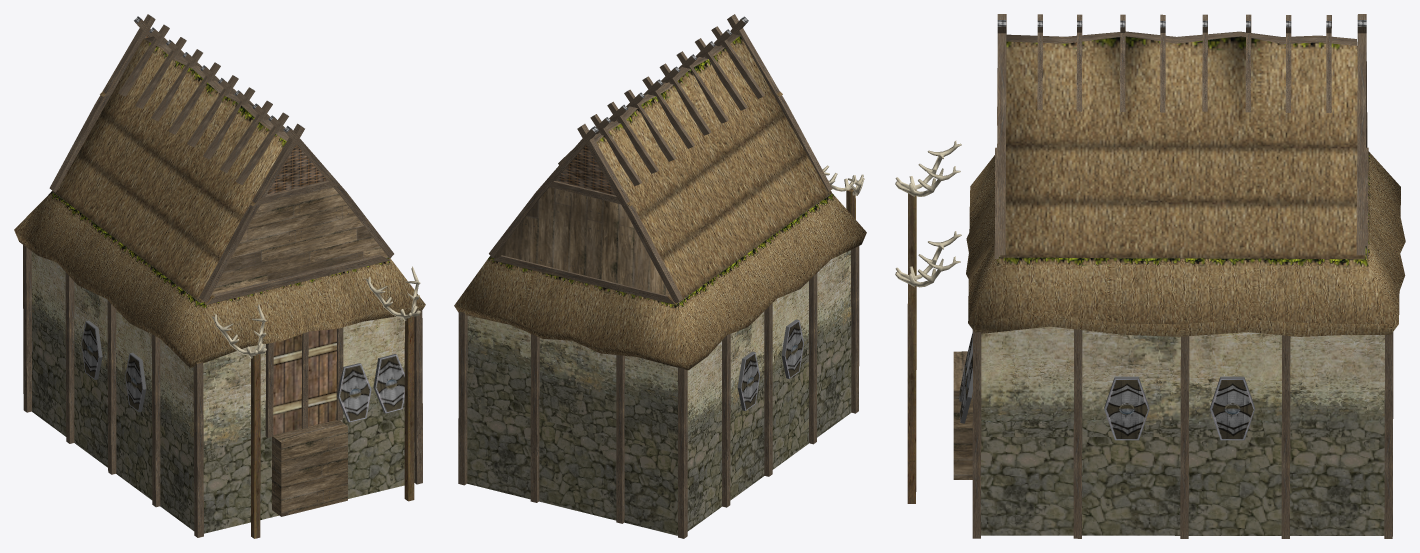
The model's file is special_struct.dae.
3 views of the same model, side by side, from view 1: azimuth 30°, elevation 25°; view 2: azimuth 150°, elevation 25°; view 3: azimuth 270°, elevation 25° (orthographic). The views are drawn at different scales.
Parts seen in each view (by area): view 1: special_struct; view 2: special_struct; view 3: special_struct.
Boxes of the visible parts, box(x1,y1,x2,y2) form: special_struct: box(14, 14, 425, 538); special_struct: box(454, 14, 866, 538); special_struct: box(895, 14, 1405, 538).
Size of the model in its own units: 14.93 by 23.04 by 22.6.
